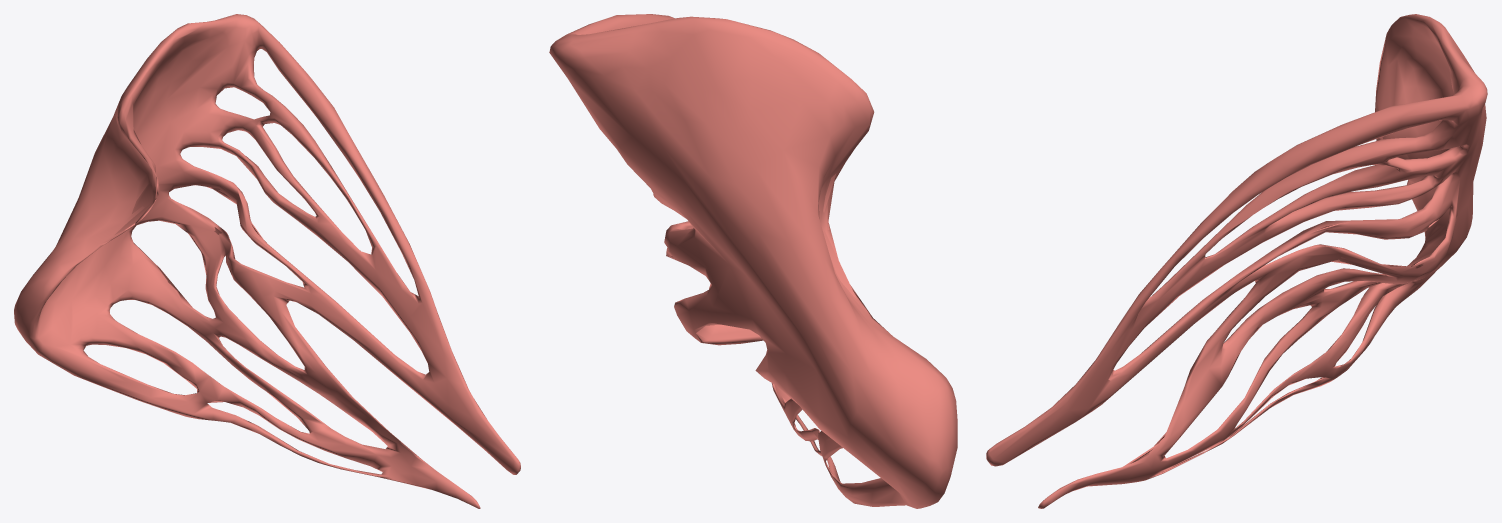
File: bicuspid2.gltf
3 views of the same model, side by side, from view 1: azimuth 30°, elevation 25°; view 2: azimuth 150°, elevation 25°; view 3: azimuth 270°, elevation 25° (orthographic). The views are drawn at different scales.
Visible parts, largest first — view 1: Posterior leaflet of left atrioventricular valve.011; view 2: Posterior leaflet of left atrioventricular valve.011; view 3: Posterior leaflet of left atrioventricular valve.011.
Boxes of the visible parts, box(x1,y1,x2,y2) form: Posterior leaflet of left atrioventricular valve.011: box(14, 14, 520, 508); Posterior leaflet of left atrioventricular valve.011: box(549, 14, 957, 508); Posterior leaflet of left atrioventricular valve.011: box(986, 14, 1487, 508).
Bounding box in the file's own units: 0.7963 × 0.9714 × 1.05.
